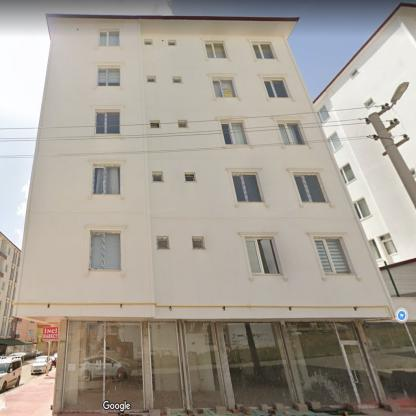door: (146, 321, 229, 409), (339, 340, 379, 408)
window: (220, 321, 358, 408), (60, 319, 148, 411), (356, 321, 414, 404), (314, 238, 354, 274), (245, 238, 281, 275), (89, 232, 120, 270), (294, 174, 326, 202), (233, 173, 262, 203), (92, 164, 120, 195), (278, 122, 306, 145), (221, 121, 248, 144), (95, 110, 119, 134), (264, 79, 289, 98), (379, 233, 398, 256), (98, 66, 119, 86), (213, 79, 236, 97), (252, 42, 275, 59), (354, 196, 370, 218), (206, 42, 226, 58), (99, 30, 118, 46), (328, 132, 342, 152), (341, 164, 355, 183), (370, 239, 381, 259), (318, 106, 329, 123), (193, 238, 204, 249), (157, 238, 168, 248), (153, 173, 162, 181), (350, 68, 358, 77), (366, 98, 374, 106), (150, 121, 160, 127), (147, 76, 155, 82), (186, 175, 194, 181), (173, 78, 181, 83), (179, 122, 187, 127), (144, 40, 152, 44), (168, 42, 176, 44)
